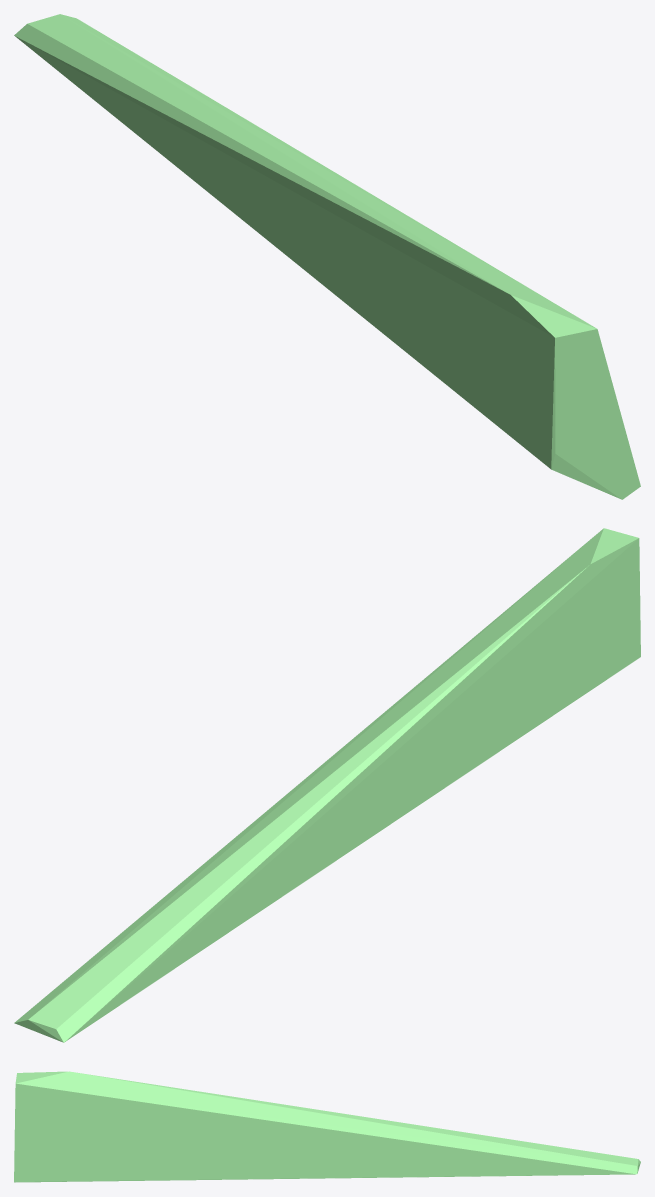
File: dvkr_robot_L2_respondable_PSM2_coll_18.dae
3 views of the same model, one above another, from view 1: azimuth 30°, elevation 25°; view 2: azimuth 150°, elevation 25°; view 3: azimuth 270°, elevation 25° (orthographic). The views are drawn at different scales.
Parts seen in each view (by area): view 1: Node_0000023514CD6E10; view 2: Node_0000023514CD6E10; view 3: Node_0000023514CD6E10.
Part boxes in pixels (x1,y1,x2,y2): Node_0000023514CD6E10: [14, 14, 640, 499]; Node_0000023514CD6E10: [14, 528, 640, 1042]; Node_0000023514CD6E10: [14, 1071, 640, 1182].
Size of the model in its own units: 0.0132 by 0.0202 by 0.12.
